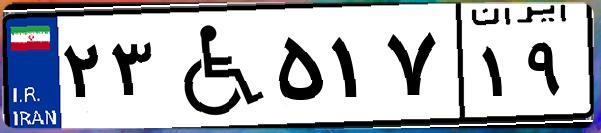1: (330, 28, 385, 110), (475, 38, 525, 113)
2: (57, 26, 110, 100)
3: (110, 28, 158, 98)
5: (270, 28, 330, 110)
7: (385, 28, 445, 110)
9: (525, 38, 570, 115)
ژ (معلولین و جانبازان): (158, 12, 270, 120)
